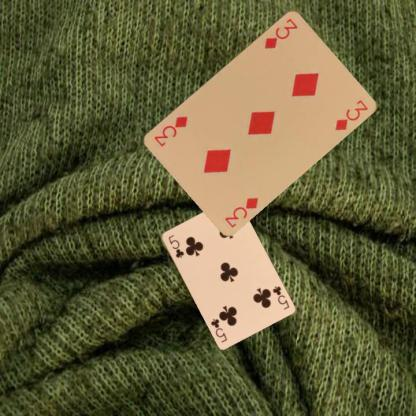3d: (262, 15, 299, 51), (222, 194, 260, 229)
5c: (270, 283, 290, 311), (165, 232, 185, 259)
